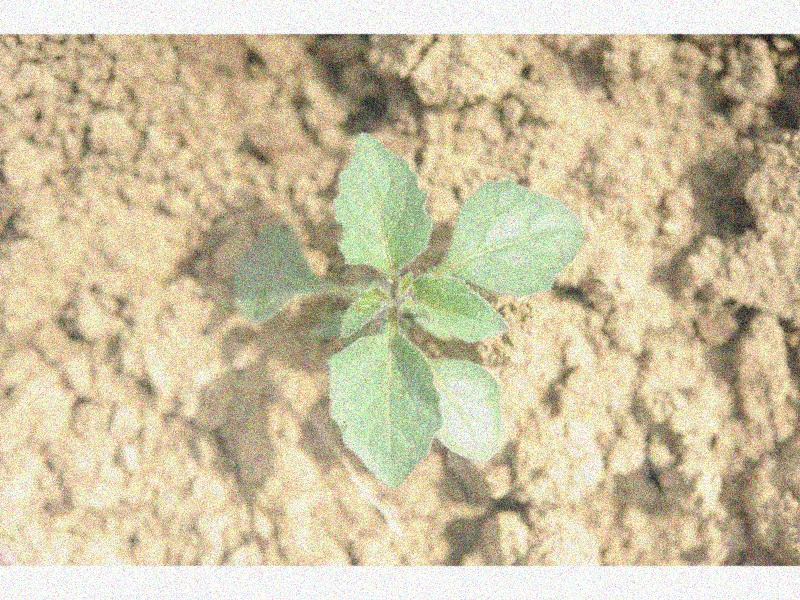nightshade: (233, 129, 583, 488)
